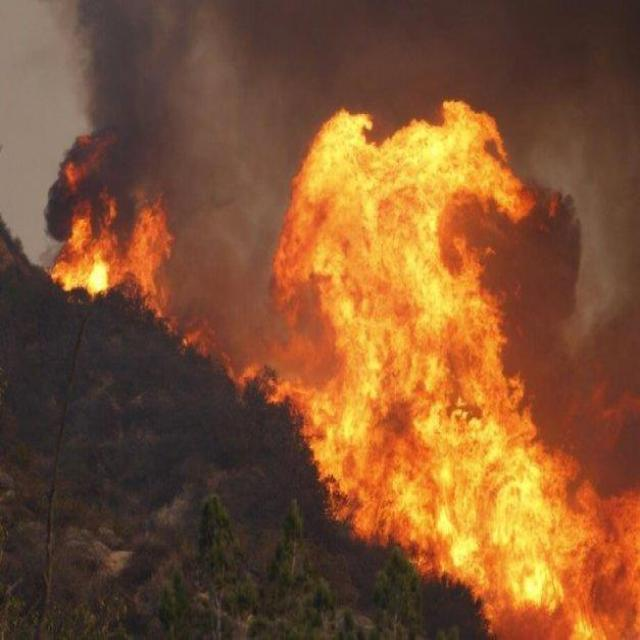Fire: (49, 101, 640, 640)
